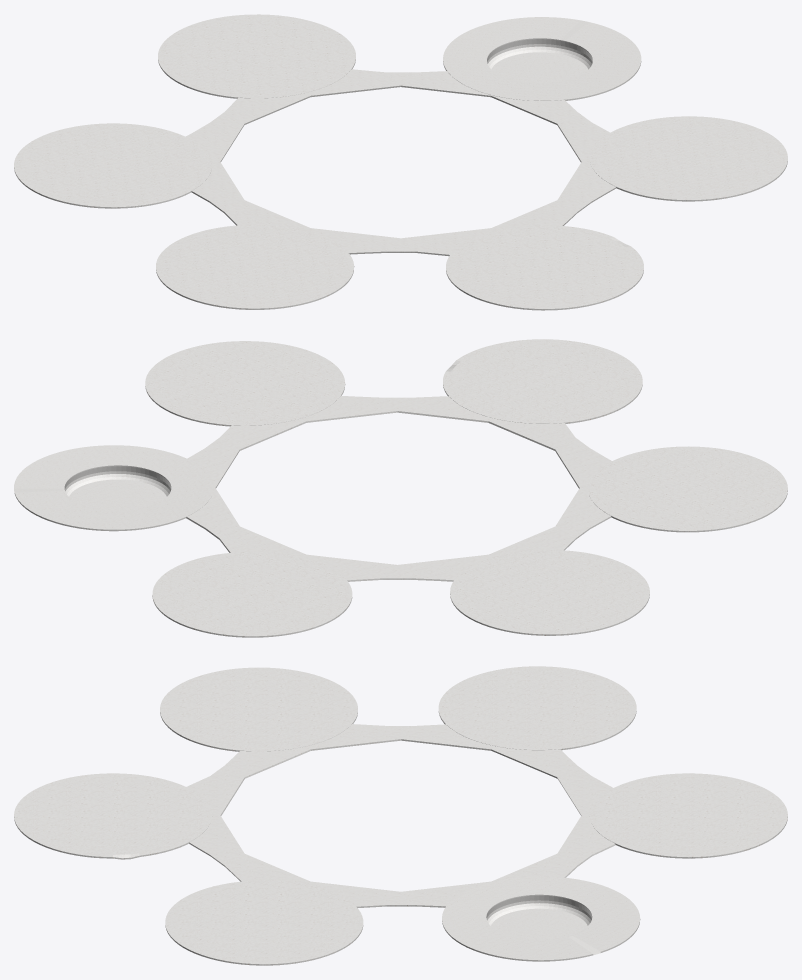
File: pisodelazonacentro.fbx
3 renders of one model, top to bottom at view 1: azimuth 30°, elevation 25°; view 2: azimuth 150°, elevation 25°; view 3: azimuth 270°, elevation 25°, orthographic.
Parts seen in each view (by area): view 1: Circle.054; view 2: Circle.054; view 3: Circle.054.
Part boxes in pixels (left/top/right/bottom): Circle.054: left=14, top=14, right=787, bottom=310; Circle.054: left=14, top=339, right=787, bottom=637; Circle.054: left=14, top=666, right=787, bottom=965.
Size of the model in its own units: 27949 by 558 by 30689.
1 material, 1 textured.
